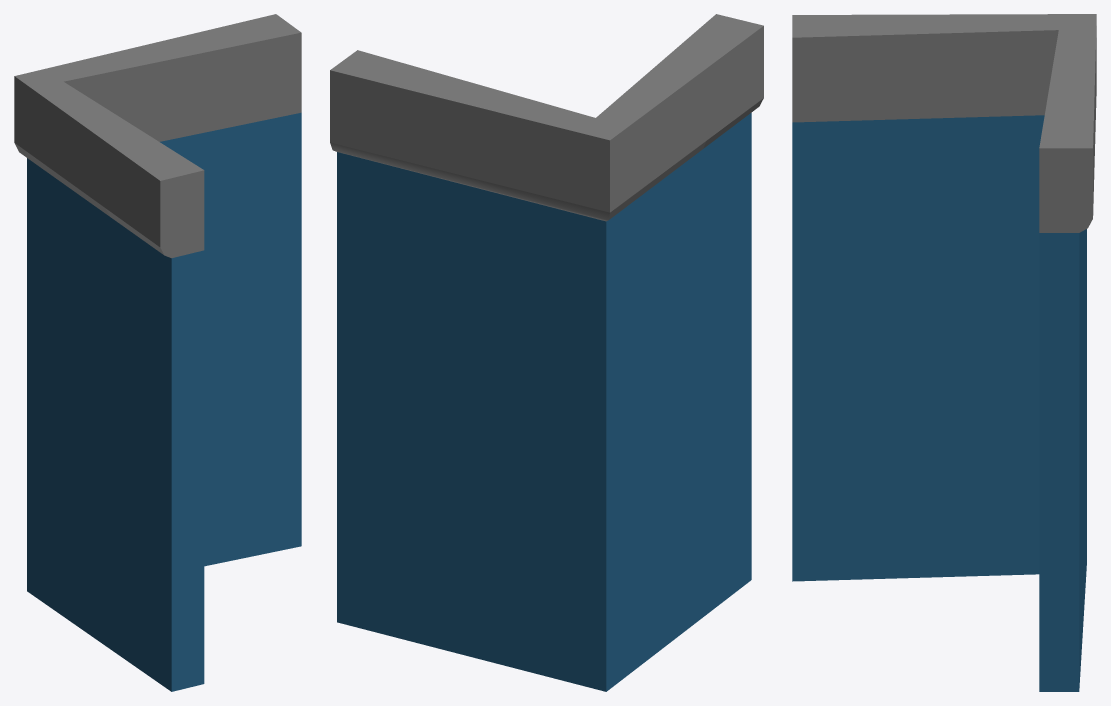
The model's file is Wall3_Top_Cornor.fbx.
The picture shows the model from 3 angles, left to right: view 1: azimuth 30°, elevation 25°; view 2: azimuth 150°, elevation 25°; view 3: azimuth 270°, elevation 25°; orthographic projection. The views are drawn at different scales.
Visible parts, largest first — view 1: Wall001_Top_Cornor; view 2: Wall001_Top_Cornor; view 3: Wall001_Top_Cornor.
Part boxes in pixels (x1,y1,x2,y2): Wall001_Top_Cornor: [14, 14, 301, 691]; Wall001_Top_Cornor: [330, 14, 763, 691]; Wall001_Top_Cornor: [792, 14, 1096, 691].
Size of the model in its own units: 62.53 by 118 by 59.97.
